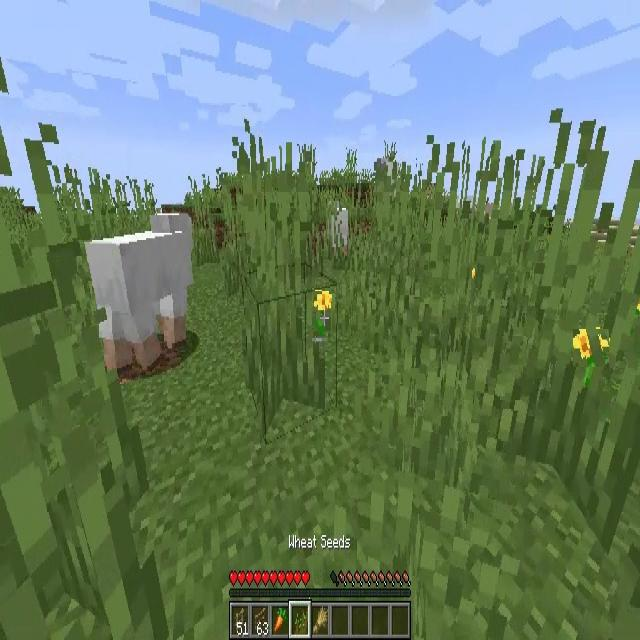flower: (573, 329, 609, 367), (312, 292, 332, 332)
sheep: (86, 210, 194, 367), (326, 198, 350, 259)
